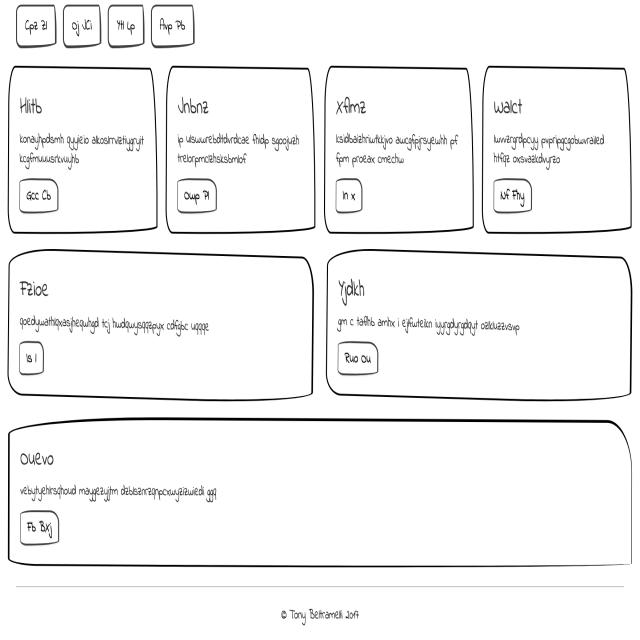Button: (174, 172, 224, 214), (490, 177, 534, 216), (16, 176, 58, 216), (14, 511, 60, 545), (335, 339, 377, 372), (17, 338, 47, 382), (334, 174, 364, 218)
Card: (7, 414, 637, 569), (327, 244, 634, 412), (5, 248, 316, 407), (164, 55, 319, 241), (3, 60, 162, 240), (481, 64, 637, 241), (326, 59, 476, 241)
Footer: (3, 574, 640, 640)
Heading 6: (15, 439, 68, 476), (174, 82, 221, 123), (331, 88, 380, 125), (16, 269, 61, 307), (335, 272, 377, 305), (13, 86, 50, 120), (492, 94, 529, 126)
Navigation Bar: (12, 5, 209, 52)
Paragraph: (332, 114, 469, 170), (16, 475, 227, 508), (333, 307, 540, 339), (173, 122, 302, 172), (17, 308, 213, 340), (491, 127, 608, 174), (16, 127, 148, 167)
